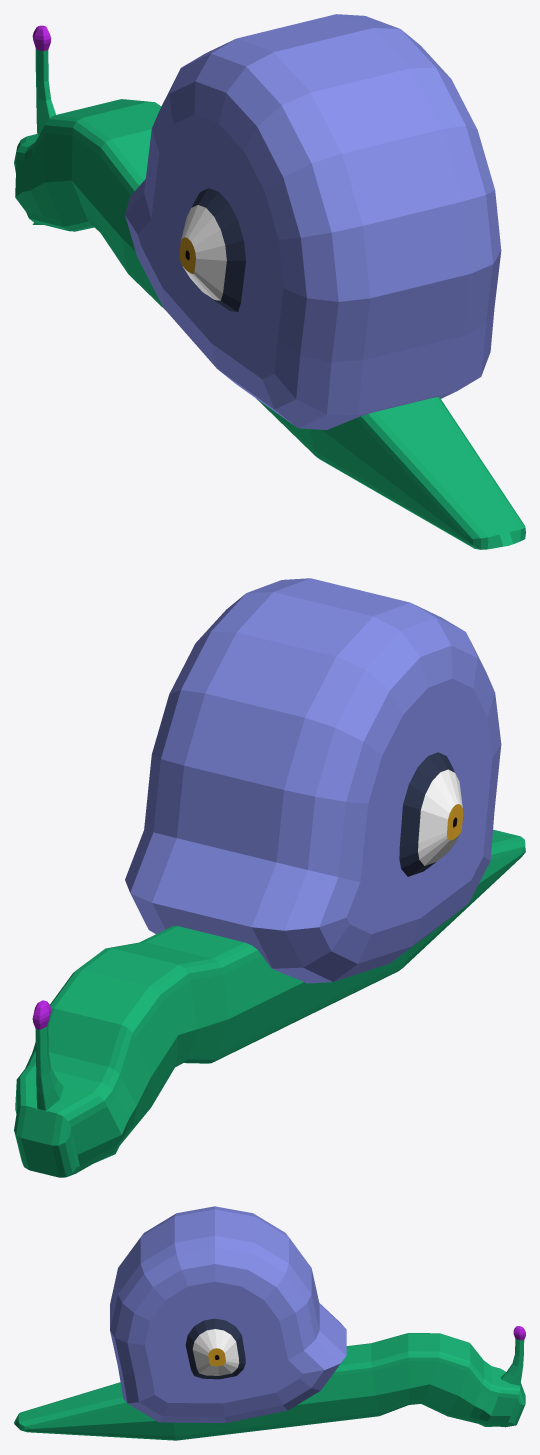
File: FingerSnails.fbx
The picture shows the model from 3 angles, top to bottom: view 1: azimuth 30°, elevation 25°; view 2: azimuth 150°, elevation 25°; view 3: azimuth 270°, elevation 25°; orthographic projection. The views are drawn at different scales.
Parts seen in each view (by area): view 1: Cylinder, Cube; view 2: Cylinder, Cube; view 3: Cylinder, Cube.
Part boxes in pixels (x1=…): Cylinder: x1=125, y1=14, x2=501, y2=430; Cube: x1=14, y1=25, x2=525, y2=549; Cylinder: x1=125, y1=578, x2=501, y2=983; Cube: x1=14, y1=829, x2=525, y2=1177; Cylinder: x1=110, y1=1206, x2=346, y2=1422; Cube: x1=14, y1=1326, x2=525, y2=1440.
Bounding box in the file's own units: 308 × 424 × 944.
